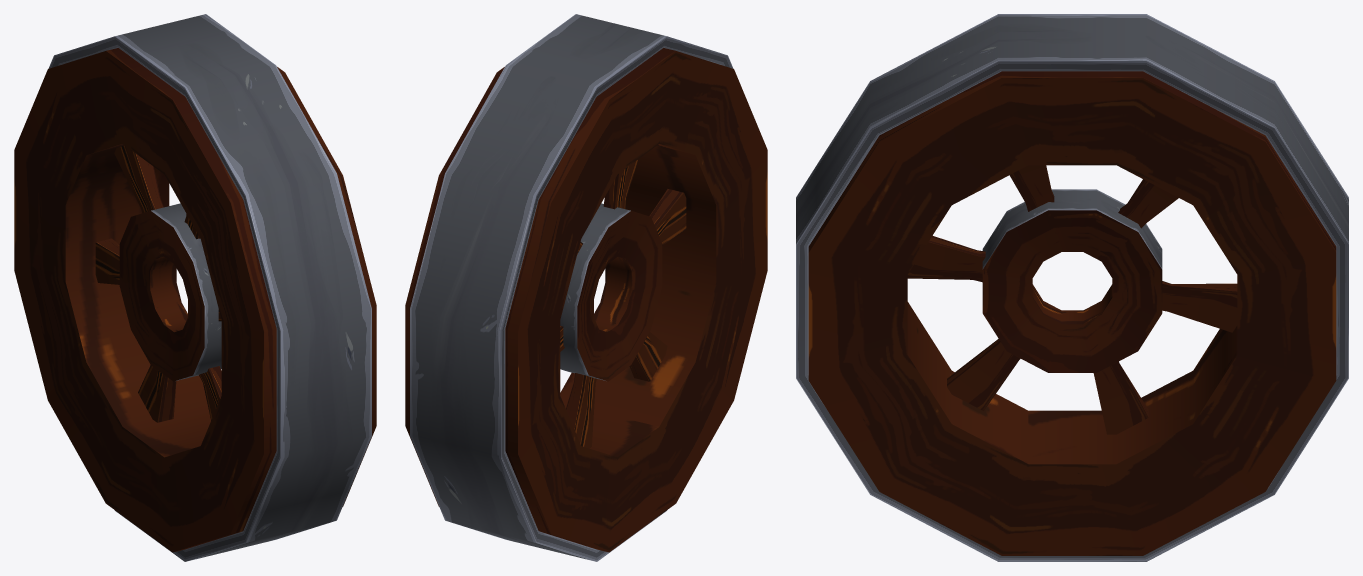
File: SM_PROP_cart_wheel_big.fbx
3 renders of one model, left to right at view 1: azimuth 30°, elevation 25°; view 2: azimuth 150°, elevation 25°; view 3: azimuth 270°, elevation 25°, orthographic. The views are drawn at different scales.
Parts seen in each view (by area): view 1: SM_PROP_cart_wheel_big; view 2: SM_PROP_cart_wheel_big; view 3: SM_PROP_cart_wheel_big.
Part boxes in pixels (x1=…): SM_PROP_cart_wheel_big: x1=14, y1=14, x2=376, y2=561; SM_PROP_cart_wheel_big: x1=405, y1=14, x2=767, y2=561; SM_PROP_cart_wheel_big: x1=796, y1=14, x2=1348, y2=561.
Bounding box in the file's own units: 34.99 × 141 × 141.
